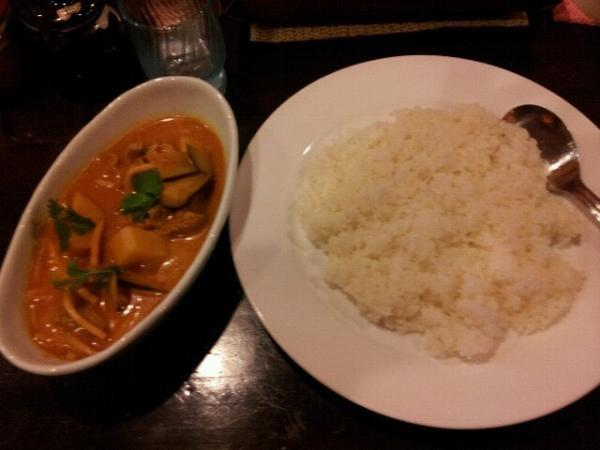plate: (229, 56, 599, 428)
rice: (295, 105, 586, 362)
